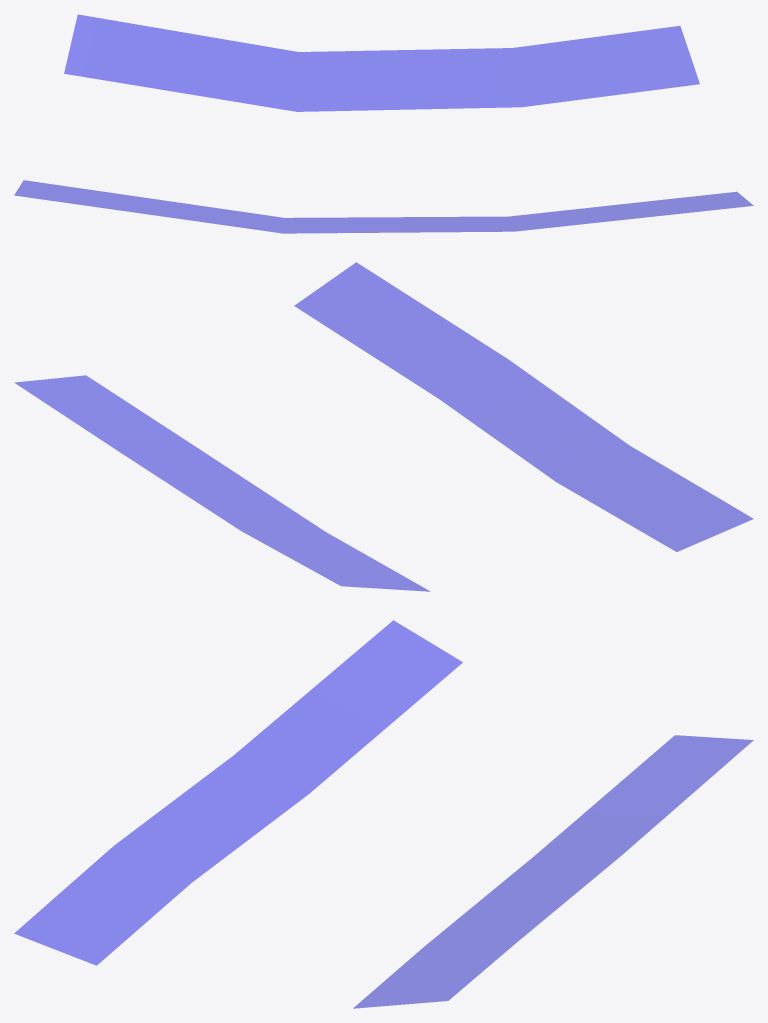
File: track_la_coll_off_10.fbx
3 views of the same model, one above another, from view 1: azimuth 30°, elevation 25°; view 2: azimuth 150°, elevation 25°; view 3: azimuth 270°, elevation 25° (orthographic). The views are drawn at different scales.
Visible parts, largest first — view 1: track_la_coll_off_10; view 2: track_la_coll_off_10; view 3: track_la_coll_off_10.
Part boxes in pixels (left/top/right/bottom): track_la_coll_off_10: left=14, top=14, right=753, bottom=233; track_la_coll_off_10: left=14, top=262, right=753, bottom=591; track_la_coll_off_10: left=14, top=620, right=753, bottom=1008.
Bounding box in the file's own units: 69.34 × 4.89 × 59.95.
